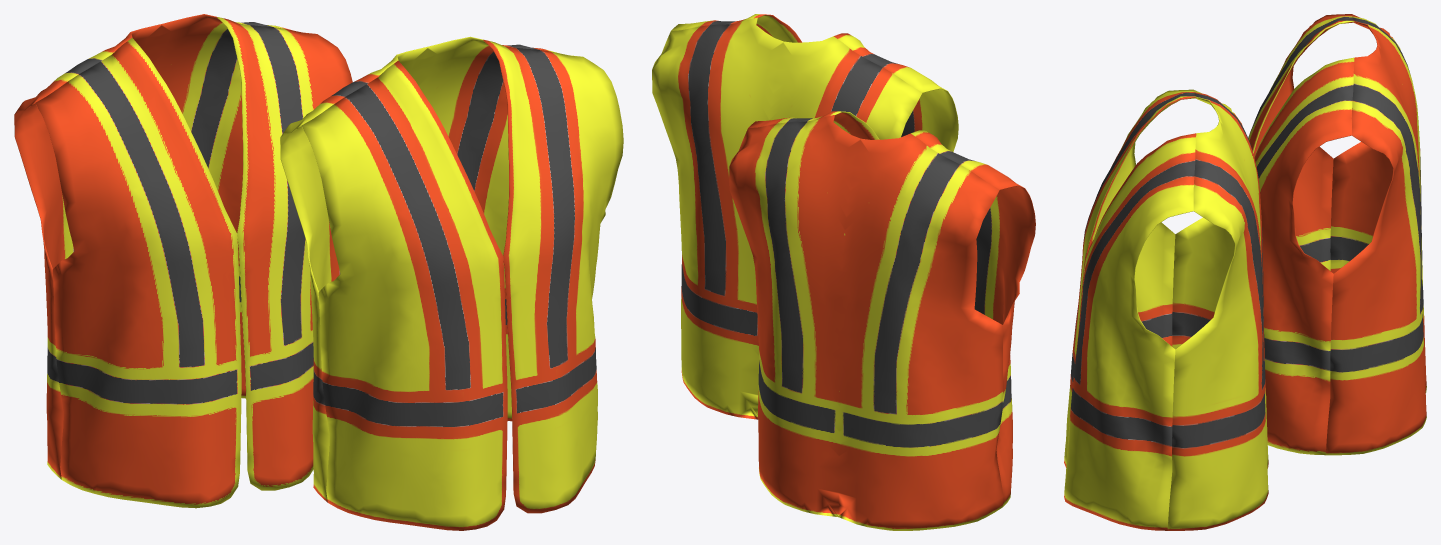
The model's file is Class 2 Vest Set.fbx.
3 renders of one model, left to right at view 1: azimuth 30°, elevation 25°; view 2: azimuth 150°, elevation 25°; view 3: azimuth 270°, elevation 25°, orthographic. The views are drawn at different scales.
Visible parts, largest first — view 1: high-vis-vest-1-1.001; view 2: high-vis-vest-1-1.001; view 3: high-vis-vest-1-1.001.
Part boxes in pixels (x1,y1,x2,y2): high-vis-vest-1-1.001: [14, 14, 623, 530]; high-vis-vest-1-1.001: [652, 14, 1035, 530]; high-vis-vest-1-1.001: [1064, 14, 1426, 530].
Size of the model in its own units: 140 by 117 by 105.
